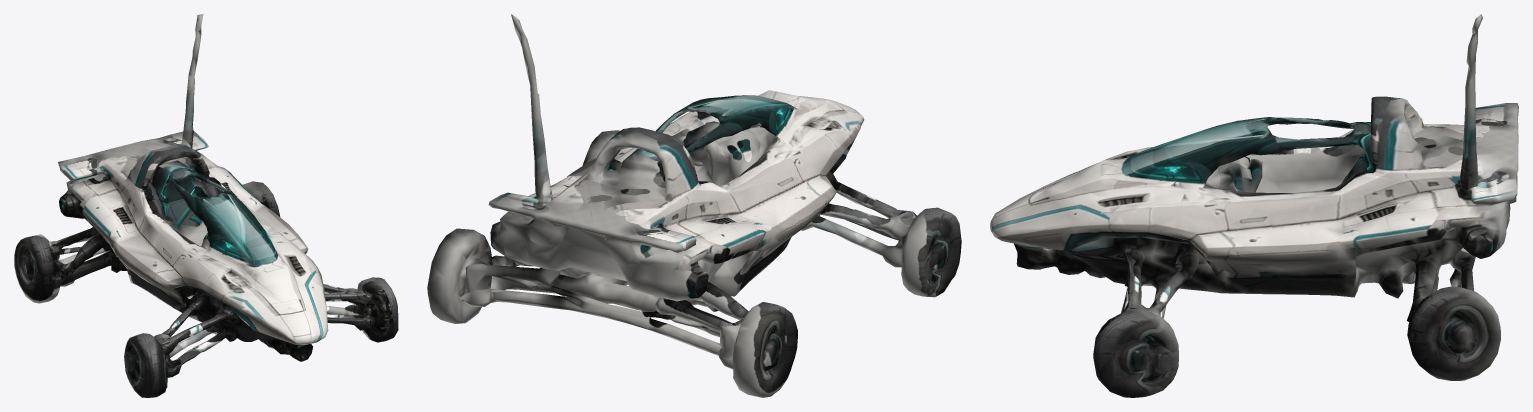
File: zephyr_lod1.glb
The picture shows the model from 3 angles, left to right: view 1: azimuth 30°, elevation 25°; view 2: azimuth 150°, elevation 25°; view 3: azimuth 270°, elevation 25°; orthographic projection. The views are drawn at different scales.
Parts seen in each view (by area): view 1: geometry_0; view 2: geometry_0; view 3: geometry_0.
Boxes of the visible parts, x1=… form: geometry_0: x1=14, y1=14, x2=398, y2=397; geometry_0: x1=427, y1=14, x2=961, y2=397; geometry_0: x1=990, y1=14, x2=1518, y2=397.
Size of the model in its own units: 1.51 by 1.43 by 1.99.
Materials: 1 (1 with a texture image).
